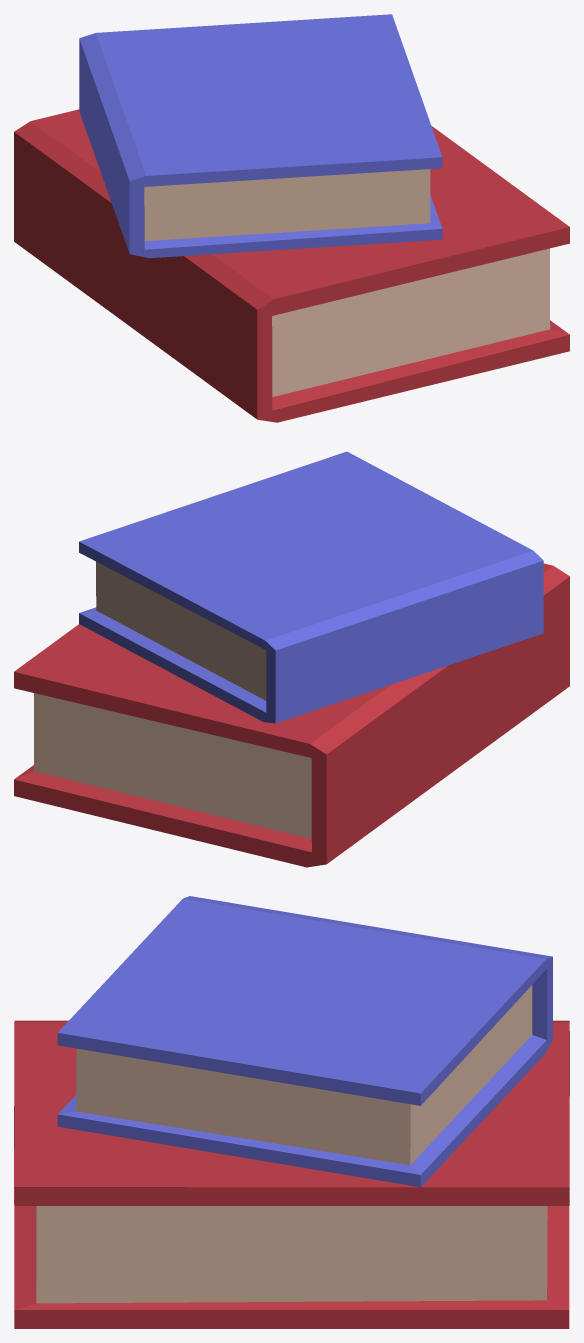
3 renders of one model, top to bottom at view 1: azimuth 30°, elevation 25°; view 2: azimuth 150°, elevation 25°; view 3: azimuth 270°, elevation 25°, orthographic. The views are drawn at different scales.
Visible parts, largest first — view 1: Cube.012; view 2: Cube.012; view 3: Cube.012.
Boxes of the visible parts, x1,y1,x2,y2 form: Cube.012: (14, 14, 569, 422); Cube.012: (14, 451, 569, 867); Cube.012: (14, 896, 569, 1328).
Size of the model in its own units: 31.63 by 17.19 by 36.74.
